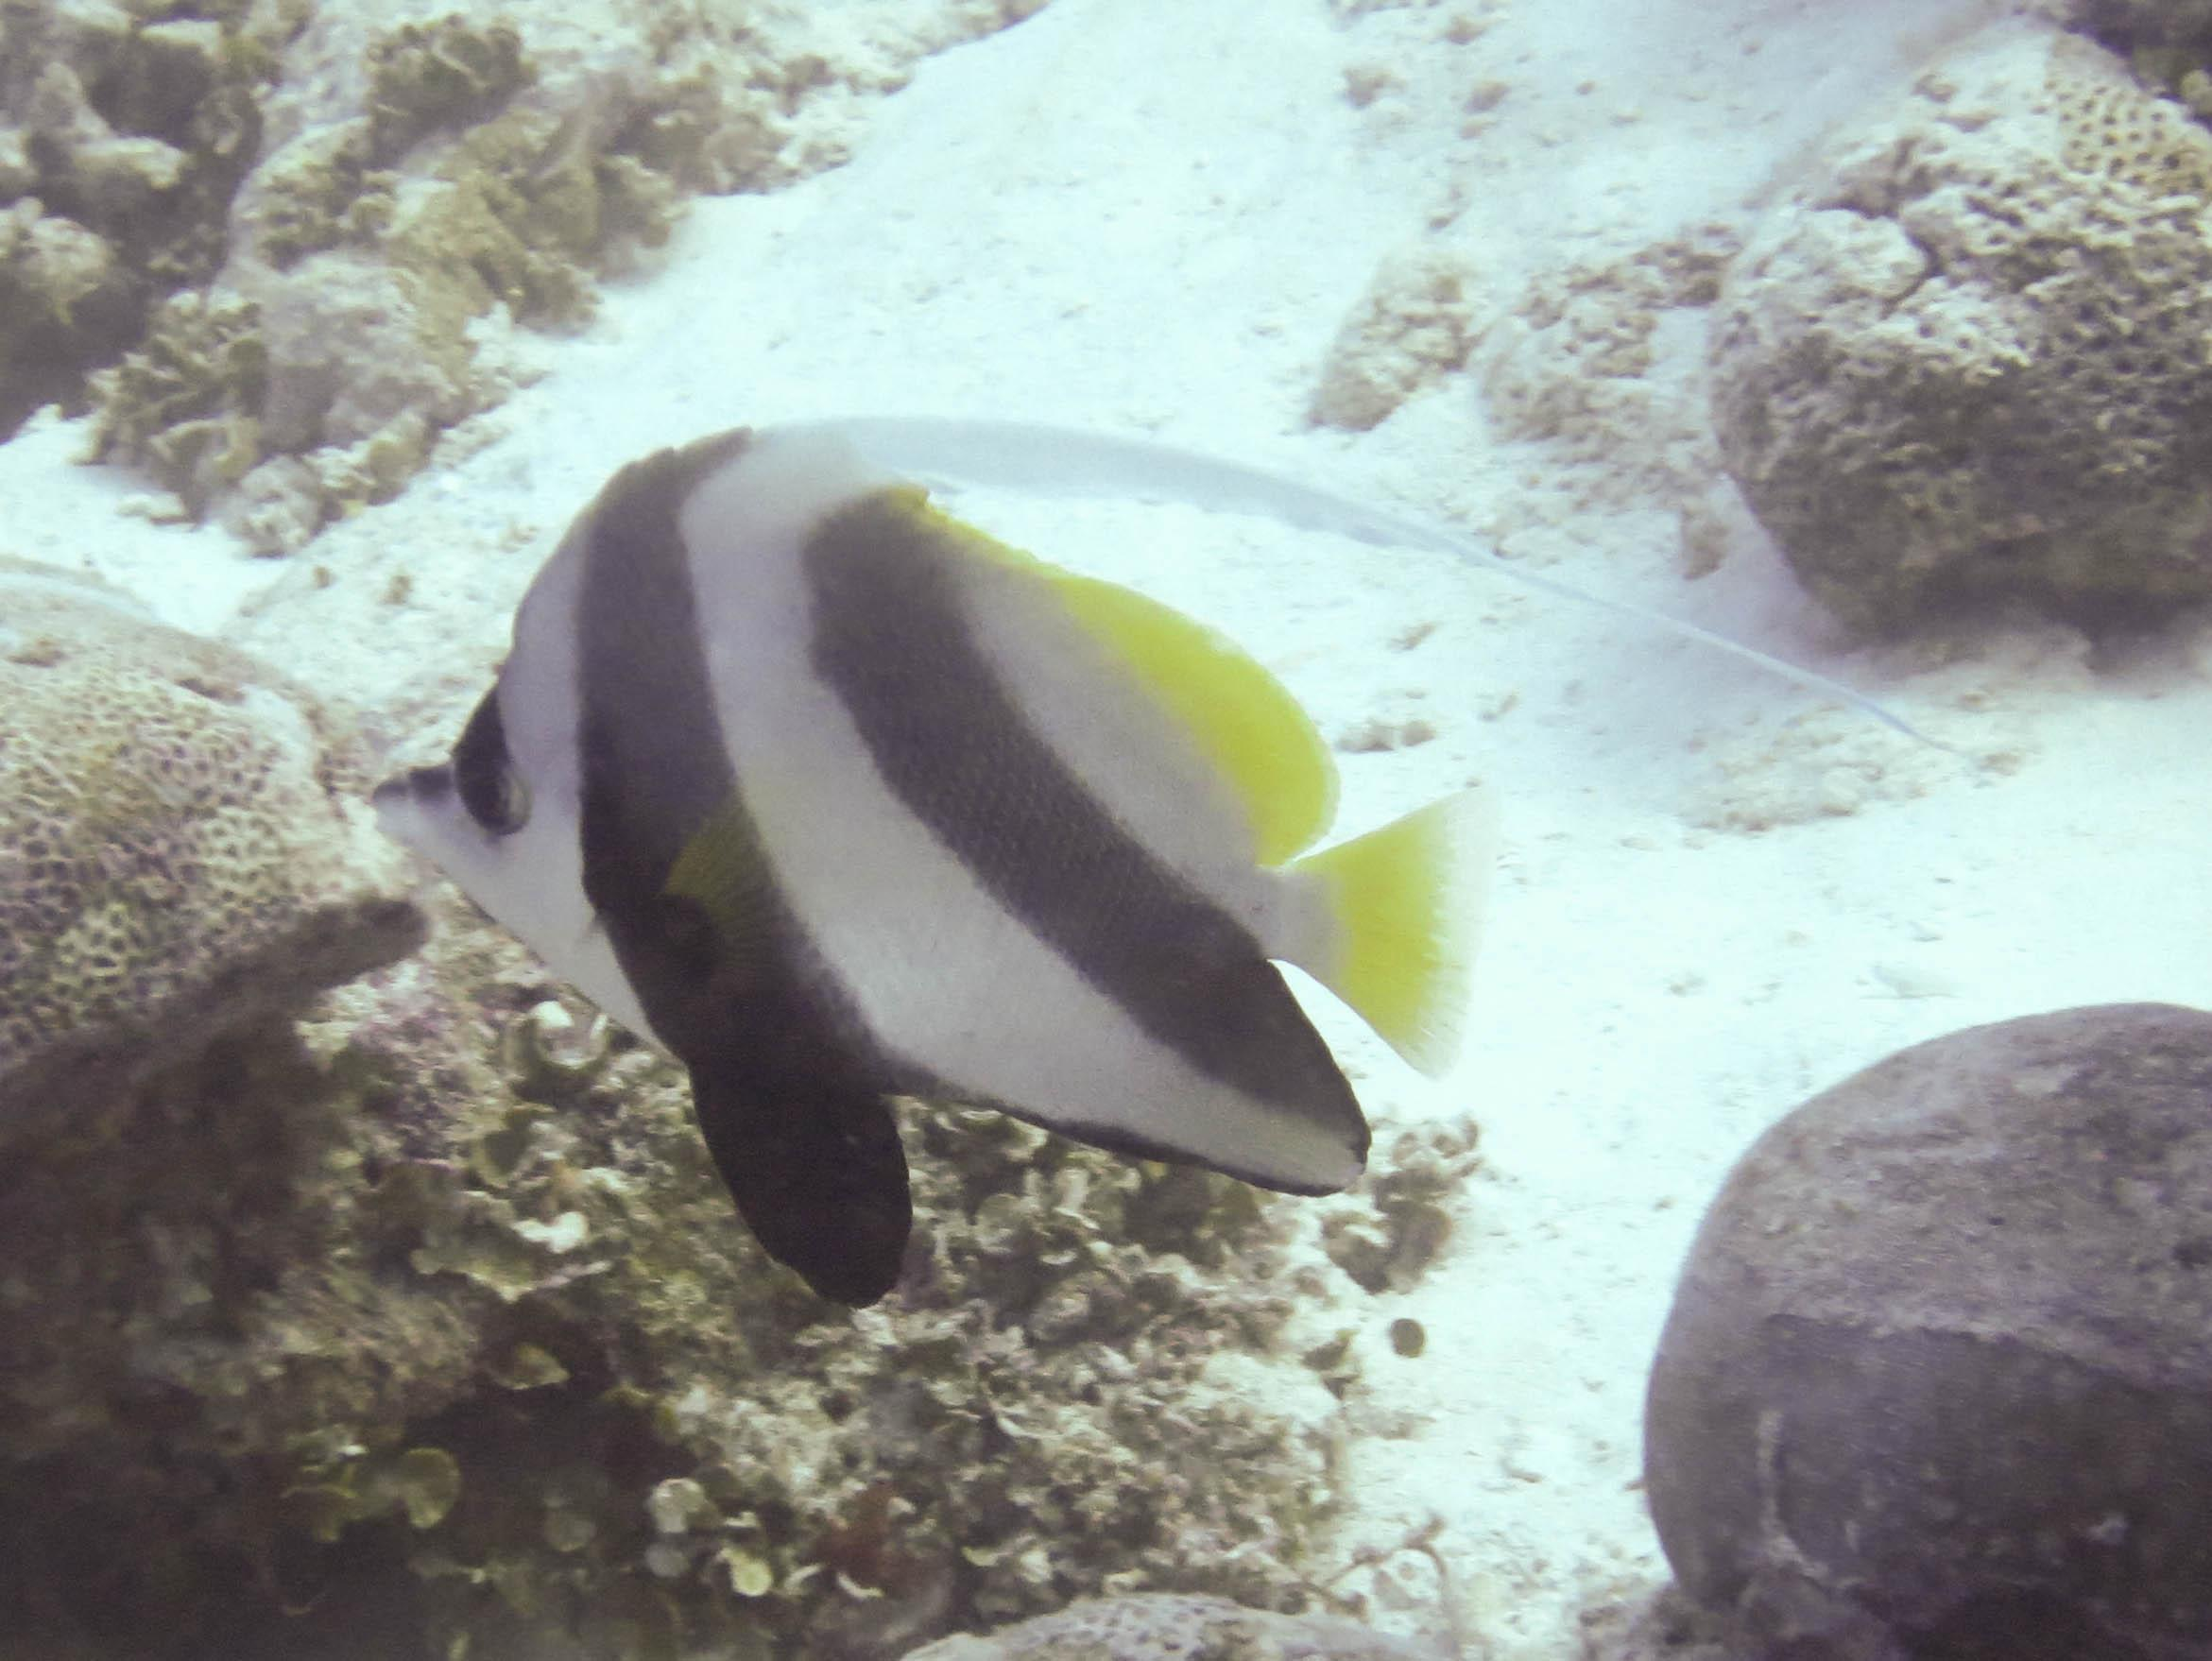Heniochus diphreutes: (342, 363, 1994, 1305)
